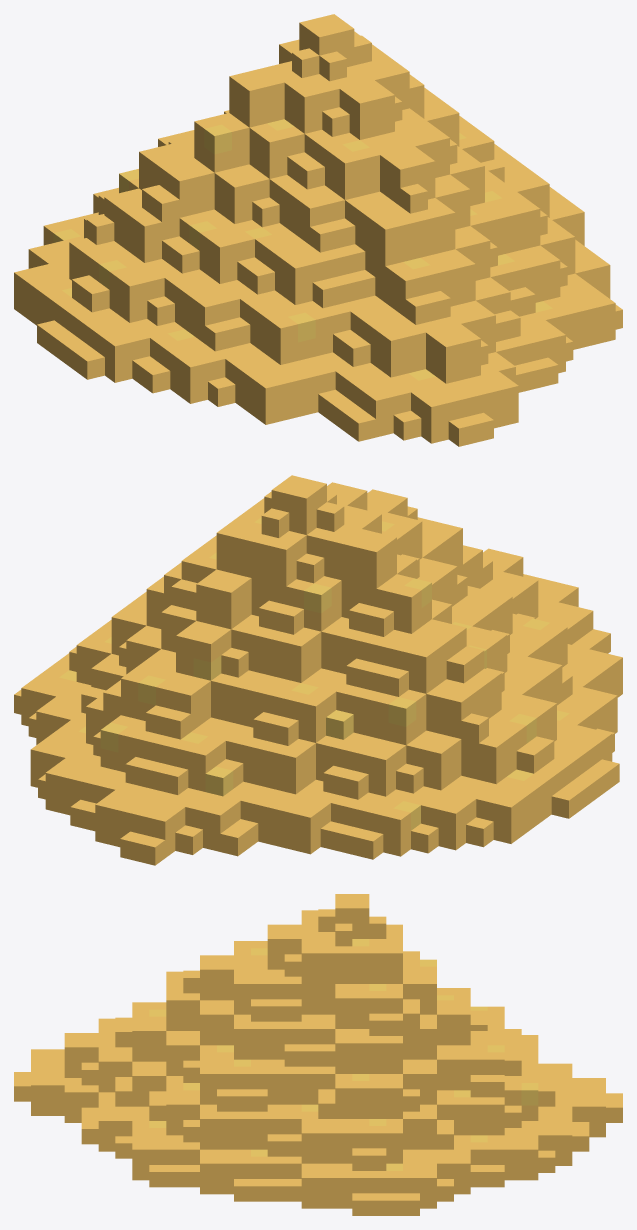
File: sand.obj
The picture shows the model from 3 angles, top to bottom: view 1: azimuth 30°, elevation 25°; view 2: azimuth 150°, elevation 25°; view 3: azimuth 270°, elevation 25°; orthographic projection. The views are drawn at different scales.
Size of the model in its own units: 3 by 1.4 by 3.6.
Materials: 1 (1 with a texture image).
